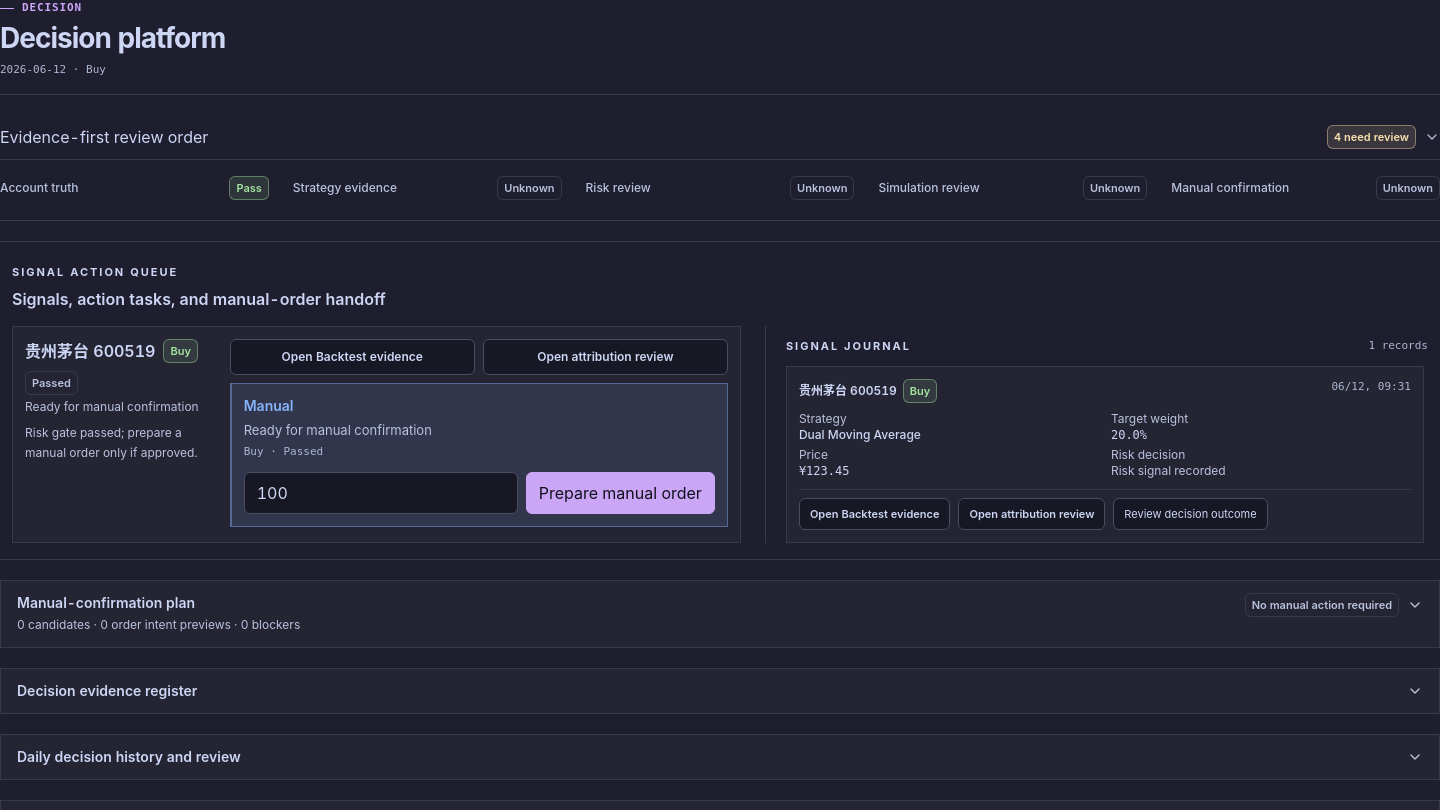
collapses an idle persisted trading plan without hiding its evidence
Expected: the element with test id "decision-daily-trading-plan-disclosure" shows "Manual-confirmation plan", [17, 594, 195, 611]
Expected: the element with test id "decision-daily-trading-plan-disclosure" shows "No manual action required", [1252, 598, 1392, 612]
Click the heading that starts with "Manual-confirmation plan".
click(106, 602)  # box [17, 593, 1423, 632]
(page scrolled)
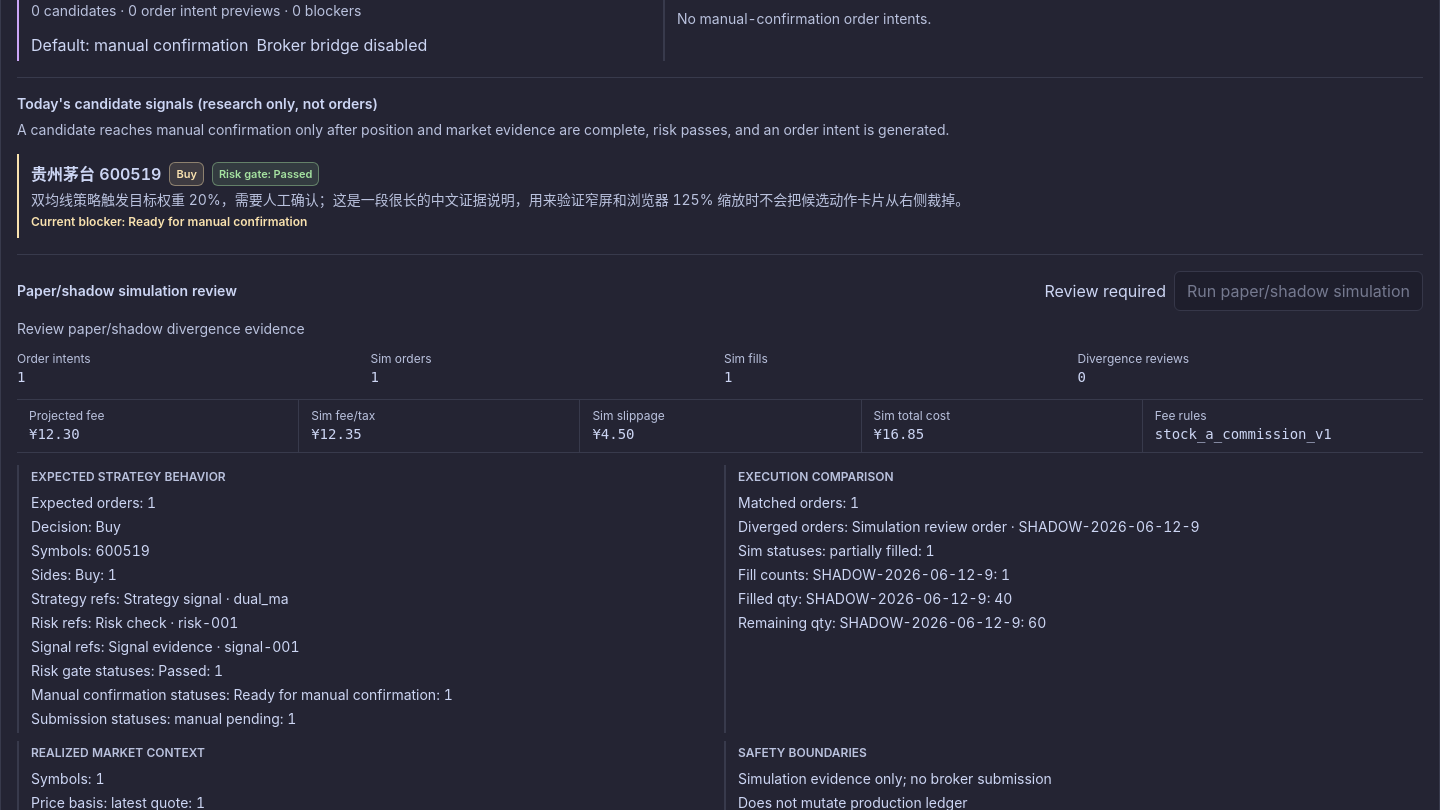
Expected: the element with test id "decision-daily-trading-plan" shows "No manual-confirmation order intents.", [677, 10, 931, 27]
